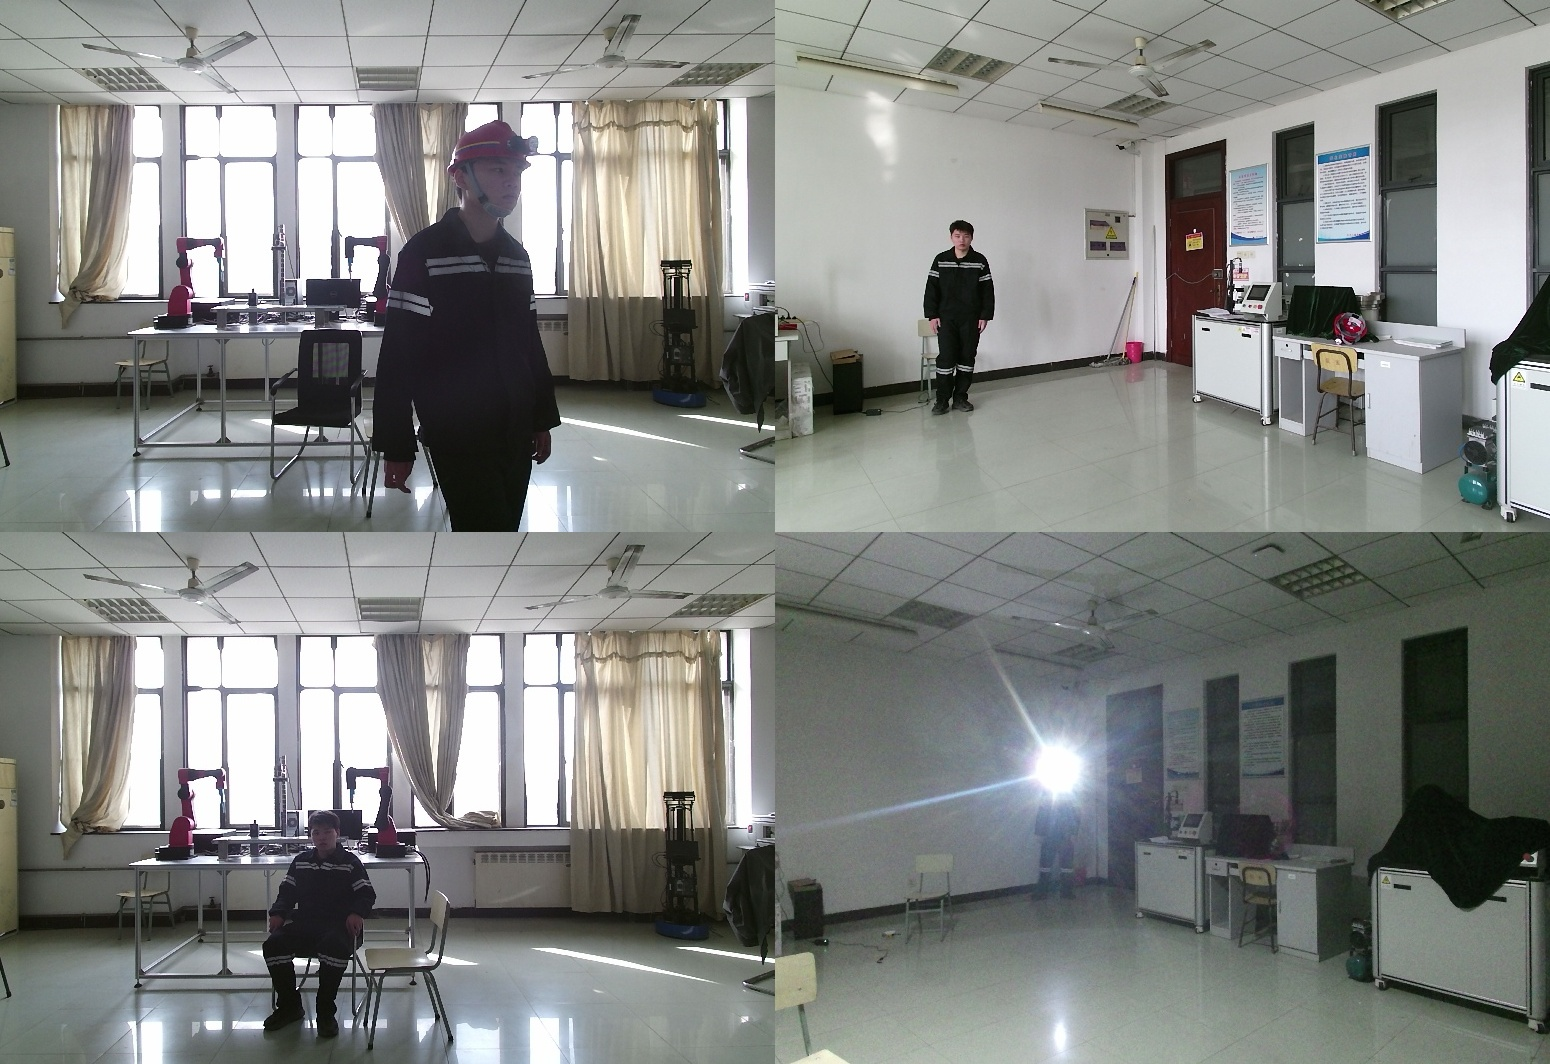person: (383, 121, 571, 532), (261, 812, 383, 1030), (919, 223, 995, 421), (1035, 766, 1083, 901)
